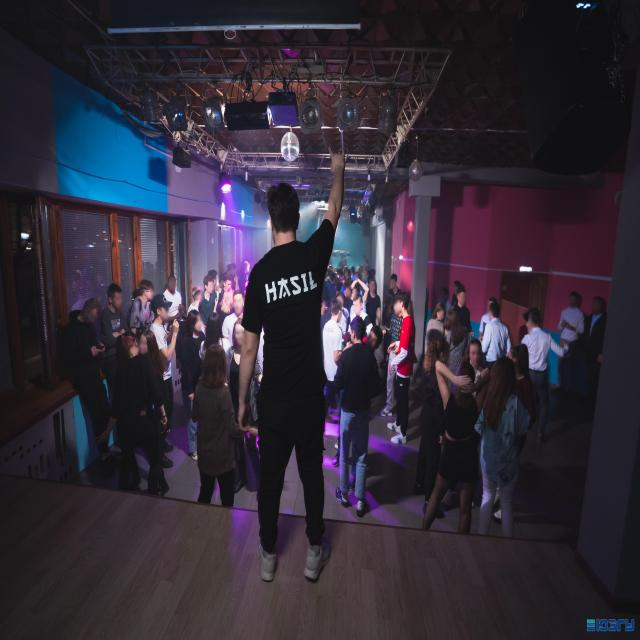Person: (232, 142, 354, 587), (419, 361, 486, 535), (66, 294, 116, 502), (184, 341, 238, 510), (475, 355, 523, 538), (335, 312, 376, 516), (110, 329, 156, 500), (515, 312, 557, 445), (424, 333, 451, 522), (136, 328, 172, 455), (572, 298, 613, 405), (226, 316, 255, 458), (101, 280, 128, 413), (147, 292, 177, 401), (396, 290, 416, 453), (555, 289, 580, 401), (503, 341, 538, 418), (384, 296, 404, 426), (181, 307, 206, 407), (482, 302, 514, 374), (443, 308, 471, 376), (128, 277, 154, 339), (422, 297, 448, 350), (464, 332, 486, 392), (451, 287, 476, 336), (200, 274, 219, 318), (362, 322, 388, 354), (167, 274, 183, 316), (188, 283, 206, 317), (367, 280, 381, 320), (386, 270, 402, 300), (230, 288, 247, 314), (349, 292, 364, 321), (239, 258, 253, 286), (329, 298, 344, 324), (451, 276, 466, 302), (436, 284, 450, 308), (341, 284, 354, 304), (222, 259, 232, 280), (329, 270, 336, 296), (223, 276, 232, 294), (344, 268, 354, 284), (336, 279, 344, 298), (229, 262, 239, 277)
